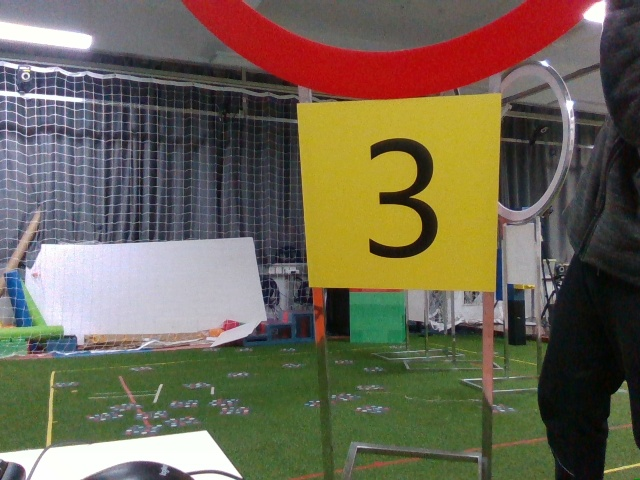target: (302, 102, 498, 287)
